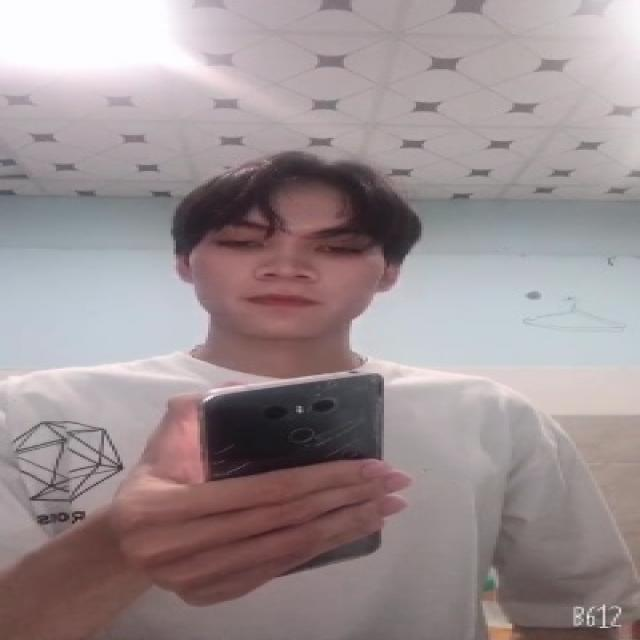Phone: (192, 369, 391, 570)
